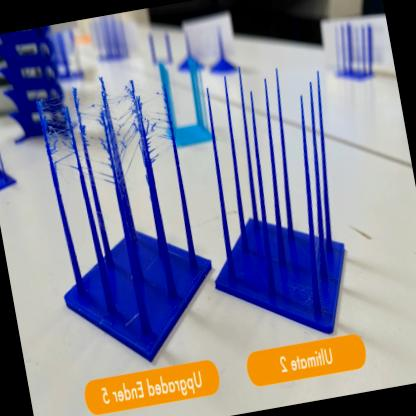fail: (31, 71, 180, 196)
